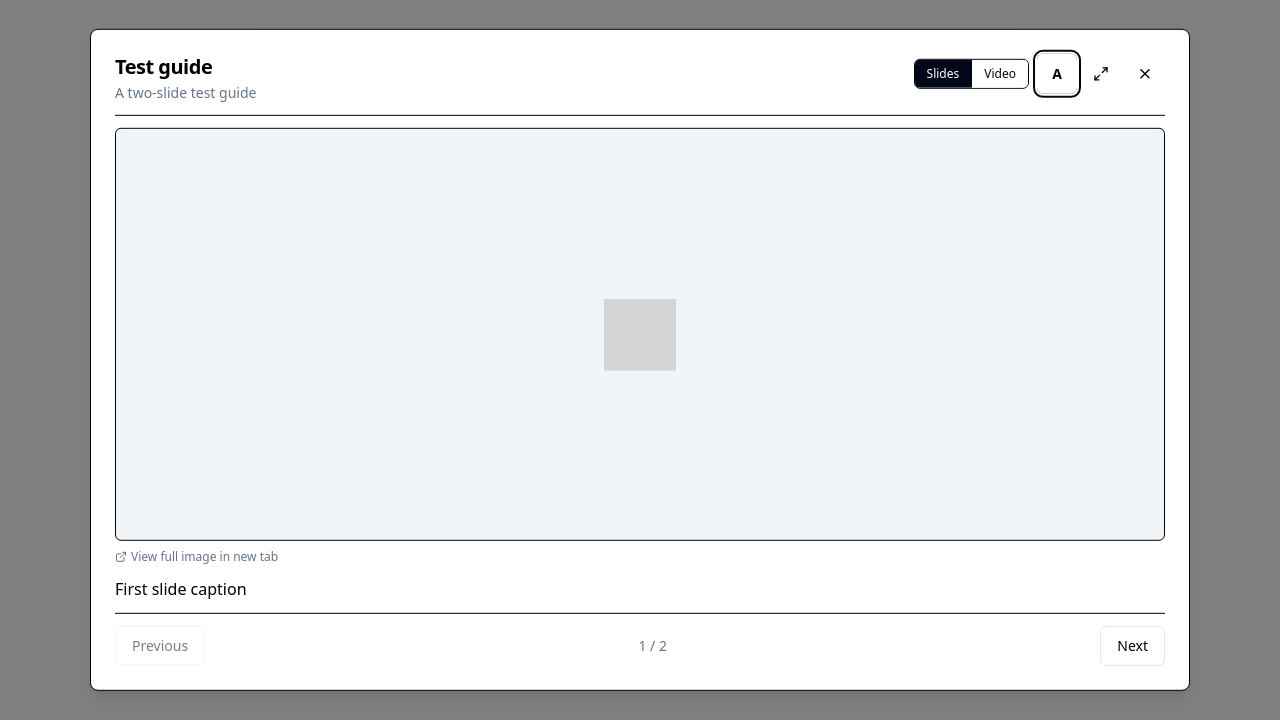
<GuideViewer> › switches to Video mode and renders <video> with the right src
The width and height of the screenshot is (1280, 720).
Click the button with test id "guide-mode-video" at (1000, 74), box [971,60,1028,88]
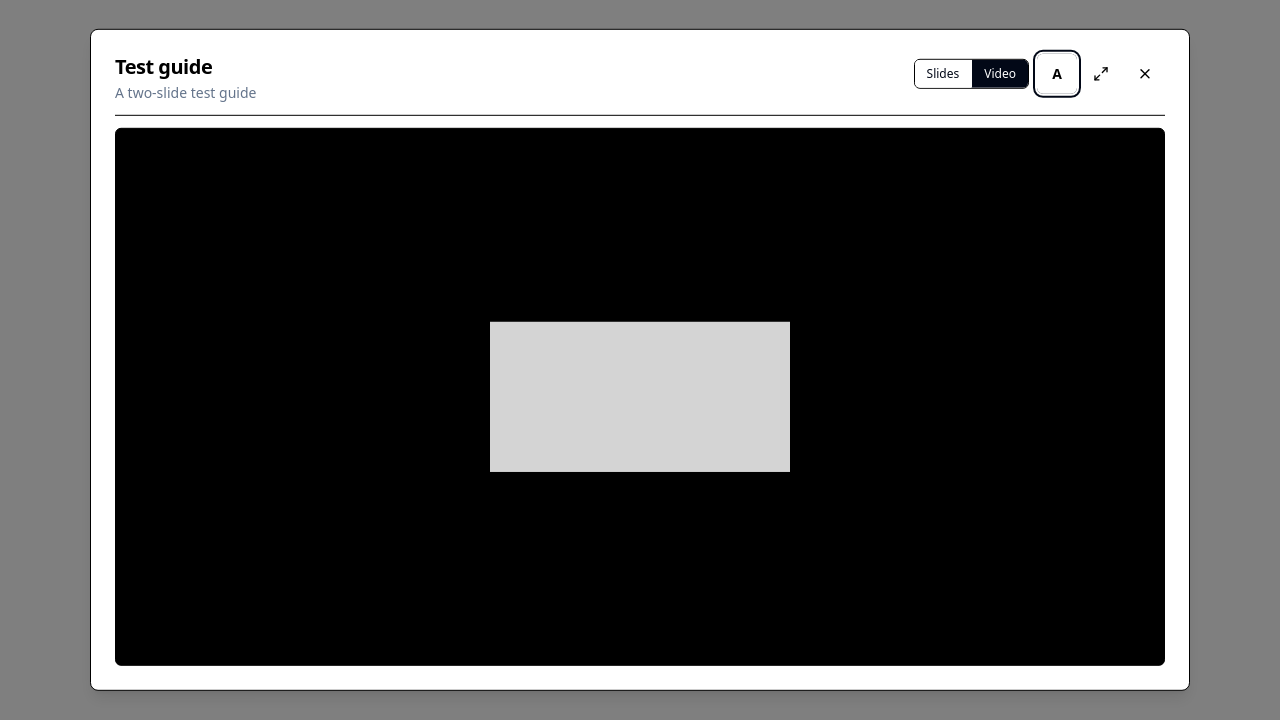
Result: the picture with test id "guide-slide-image" is gone
Result: the button with test id "guide-prev" is gone
Result: the button with test id "guide-next" is gone
